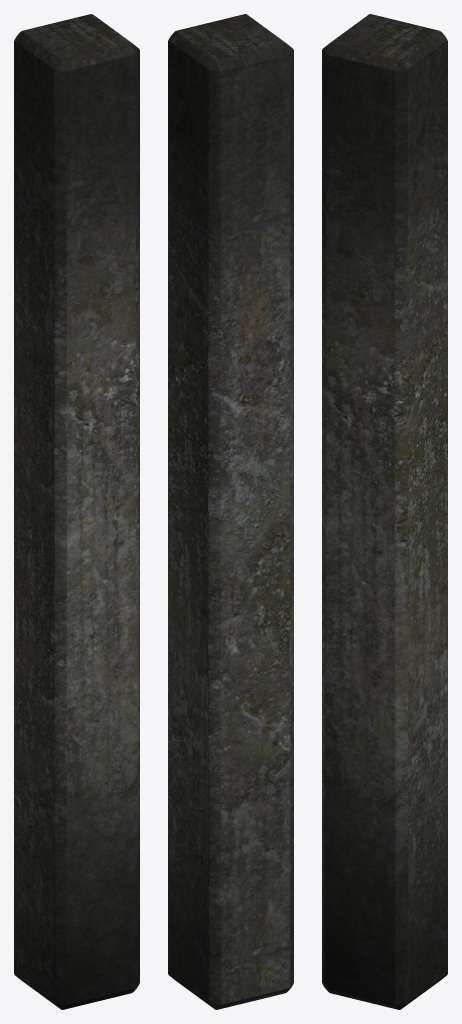
The model's file is Pillarb.fbx.
3 renders of one model, left to right at view 1: azimuth 30°, elevation 25°; view 2: azimuth 210°, elevation 25°; view 3: azimuth 330°, elevation 25°, orthographic.
Visible parts, largest first — view 1: Cube.084; view 2: Cube.084; view 3: Cube.084.
Part boxes in pixels (bbox=[...]): Cube.084: bbox=[14, 14, 139, 1009]; Cube.084: bbox=[168, 14, 293, 1009]; Cube.084: bbox=[322, 14, 447, 1009].
Size of the model in its own units: 79.23 by 839 by 79.23.
